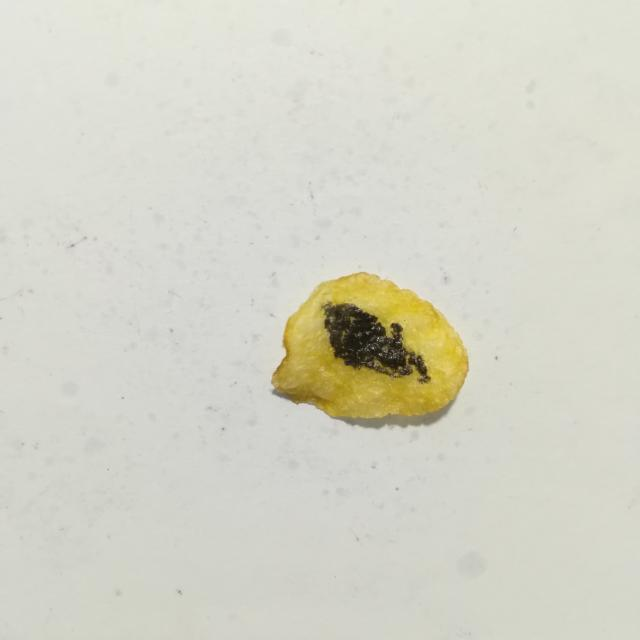chip: (271, 273, 468, 418)
damaged: (323, 302, 430, 383)
